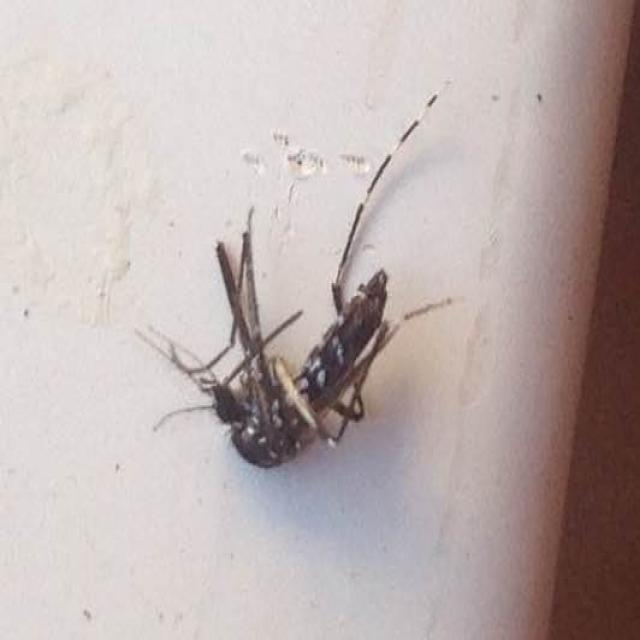albopictus: (133, 76, 479, 476)
